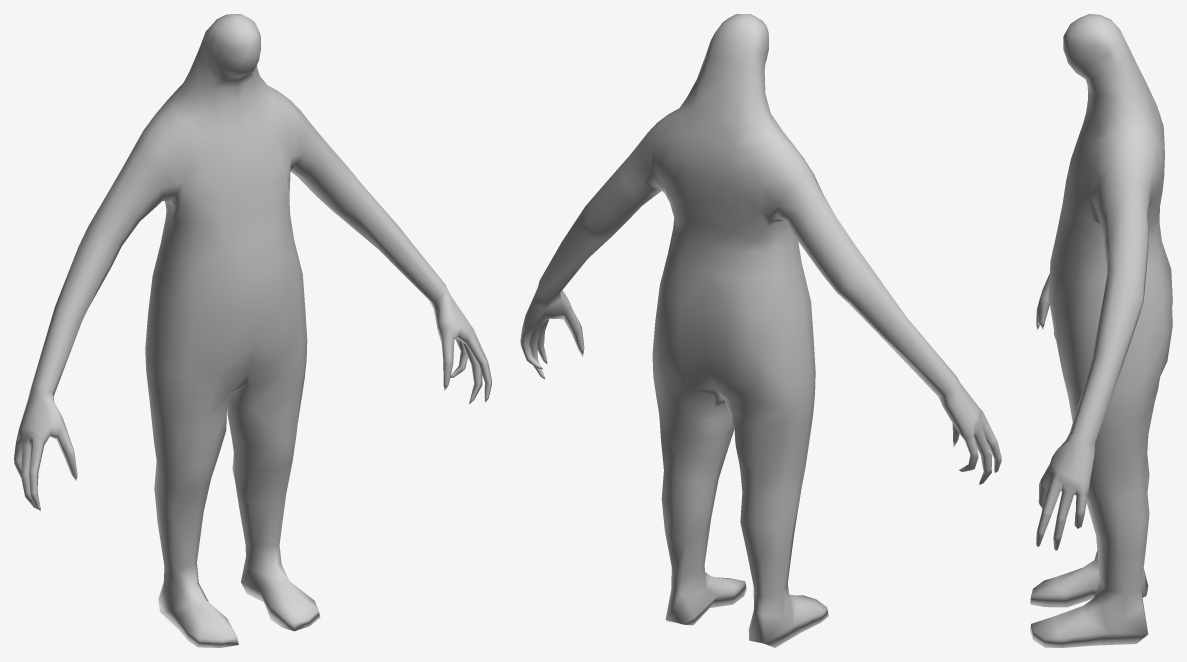
Rendered from 276-umibozu.glb.
3 renders of one model, left to right at view 1: azimuth 30°, elevation 25°; view 2: azimuth 150°, elevation 25°; view 3: azimuth 270°, elevation 25°, orthographic.
Size of the model in its own units: 5.37 by 6.67 by 1.43.
Materials: 3 (3 with a texture image).
